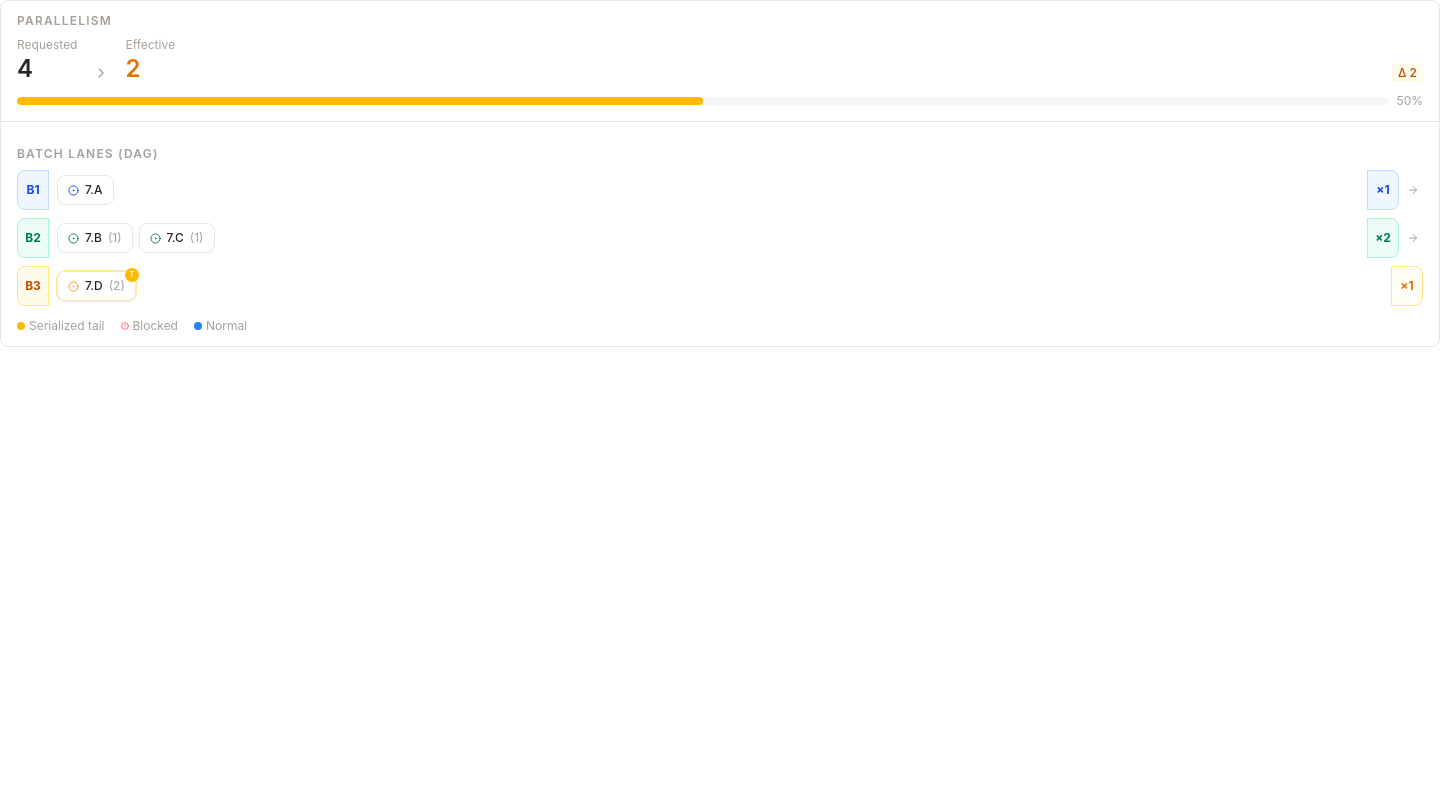
AC 3: Allows dependency editing with preview-before-save › shows preview-before-save label
Click the text "7.D".
click(94, 286)  # box left=85, top=278, right=103, bottom=294
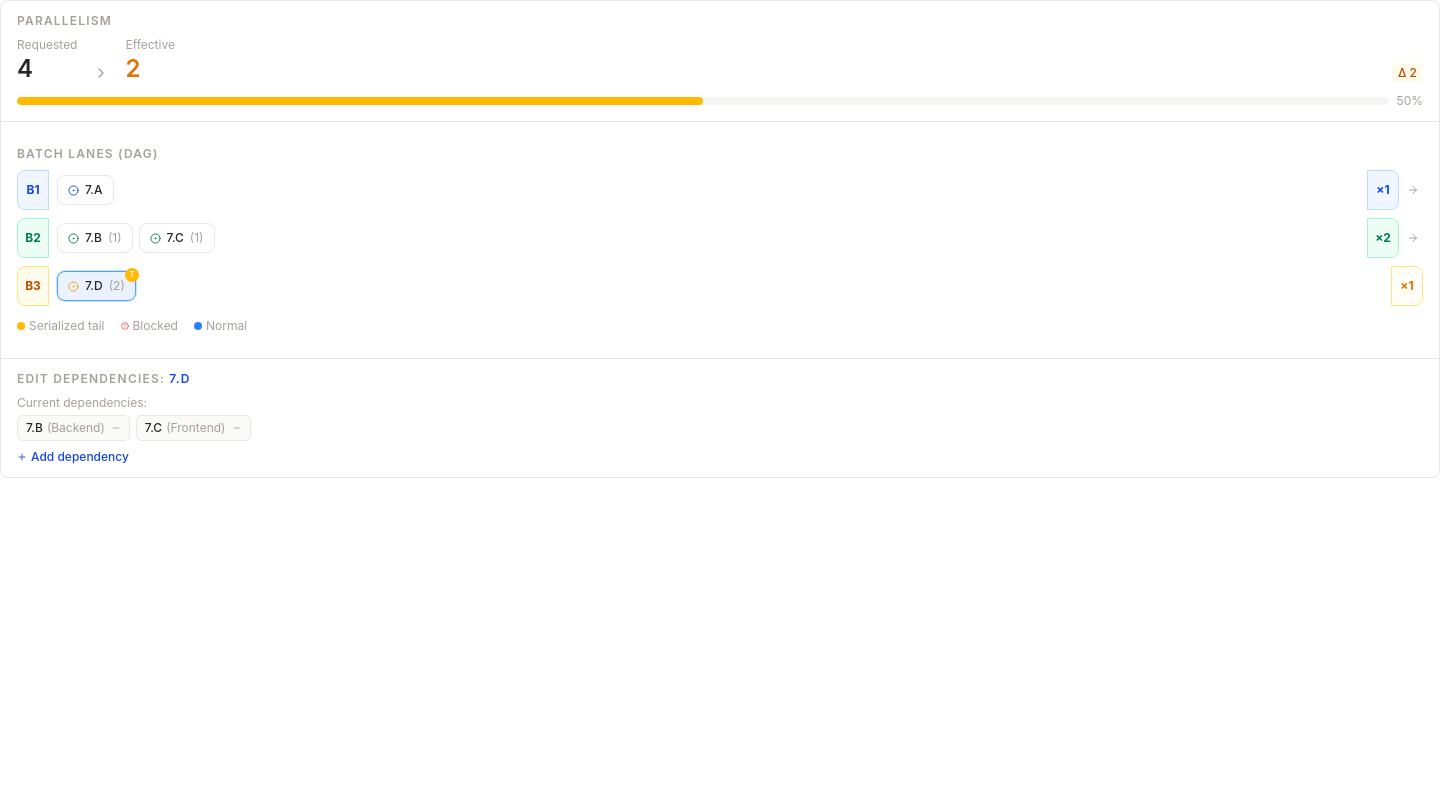
Click the button titled "Remove dependency" next to "Backend".
click(116, 428)  # box left=111, top=423, right=121, bottom=433
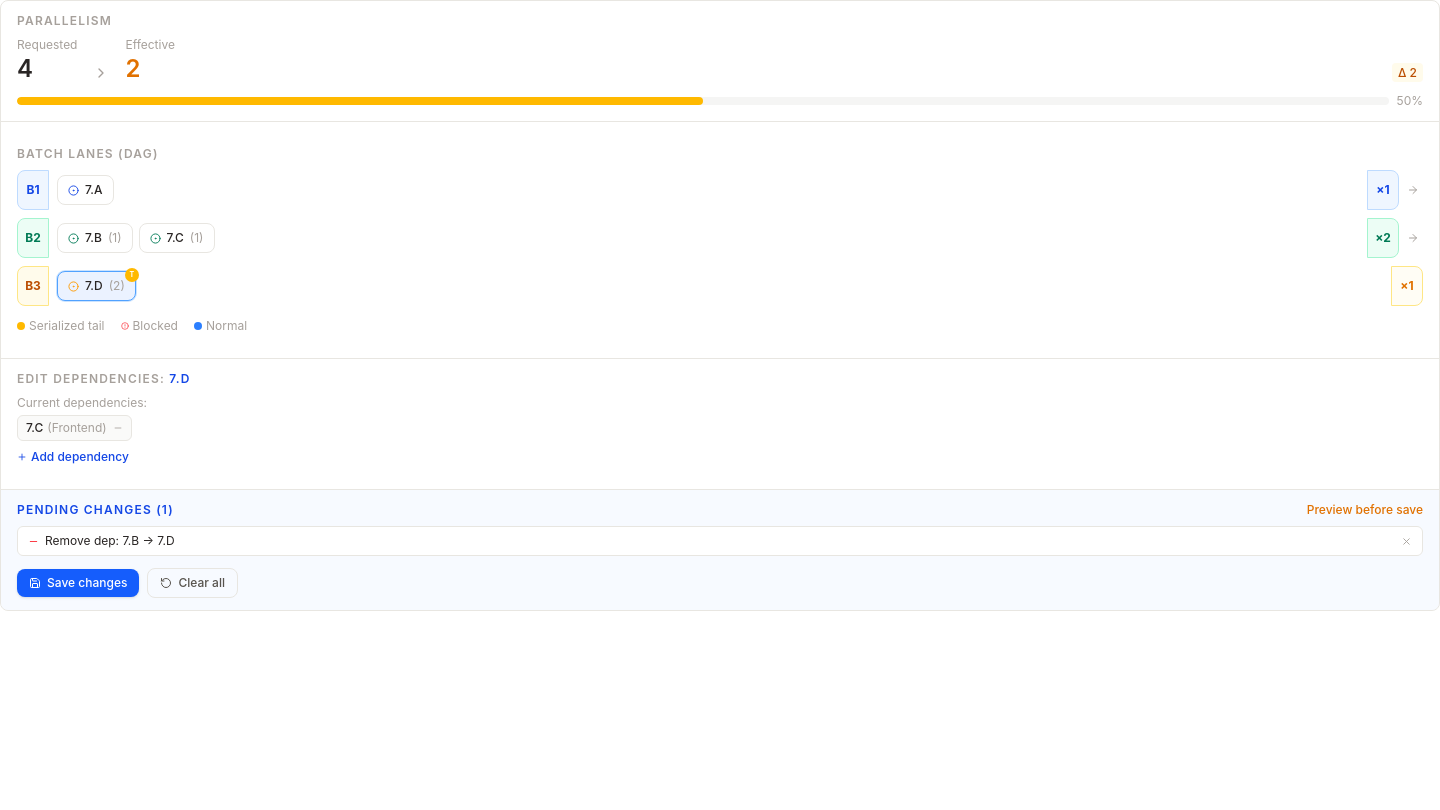
Expected: the text "Preview before save" is shown, left=1307, top=502, right=1423, bottom=518
